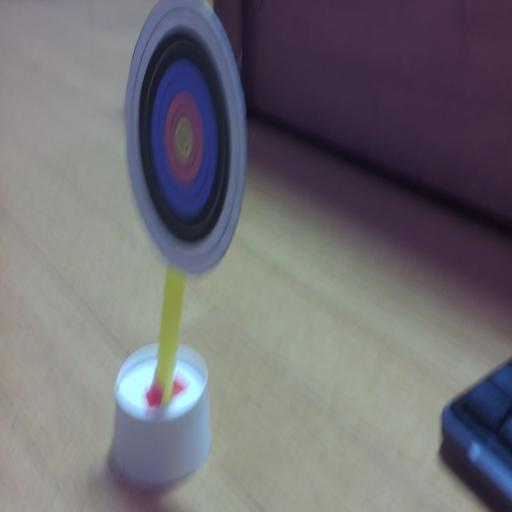target: (126, 0, 246, 272)
